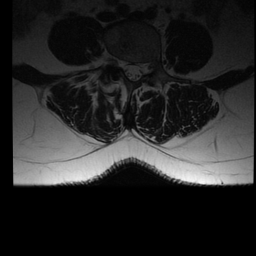CCS_normal: (129, 51, 137, 88)
LFS_normal: (144, 51, 152, 80)
LLS_normal: (137, 51, 144, 85)
RFS_normal: (114, 48, 122, 74)
RLS_normal: (122, 51, 129, 82)
